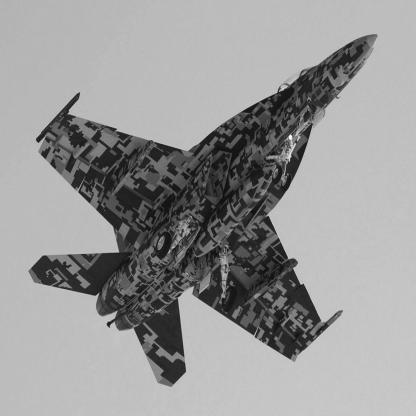F18: (29, 35, 379, 388)
